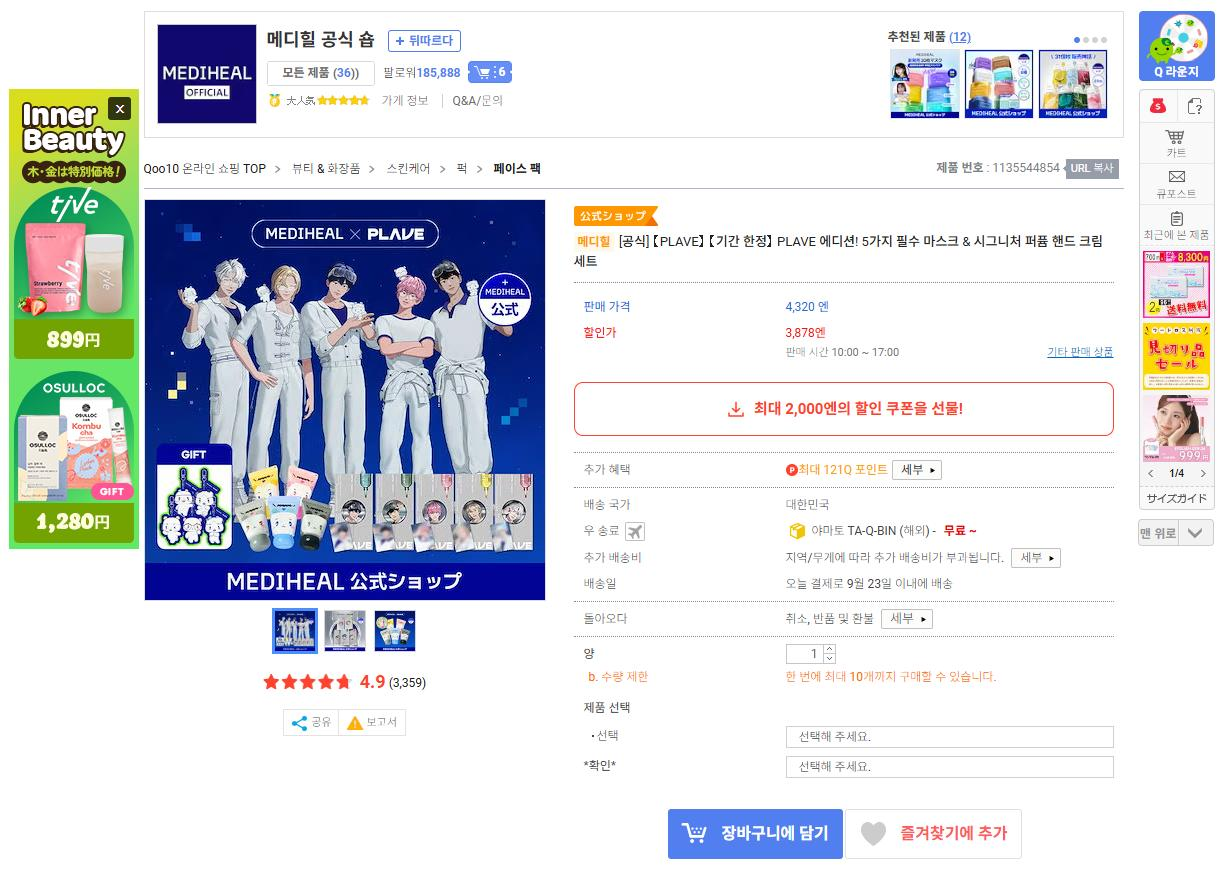button: (570, 381, 1116, 439), (660, 804, 846, 860), (844, 806, 1025, 863), (268, 63, 375, 89), (386, 26, 463, 56), (348, 711, 411, 739), (1006, 544, 1065, 571), (268, 711, 329, 734), (886, 604, 940, 629), (888, 461, 946, 484), (465, 65, 522, 88), (106, 96, 133, 123)
input_field: (590, 720, 1121, 752), (569, 758, 1124, 786)
popup: (6, 85, 138, 554), (1138, 93, 1218, 552), (1138, 9, 1211, 84)
